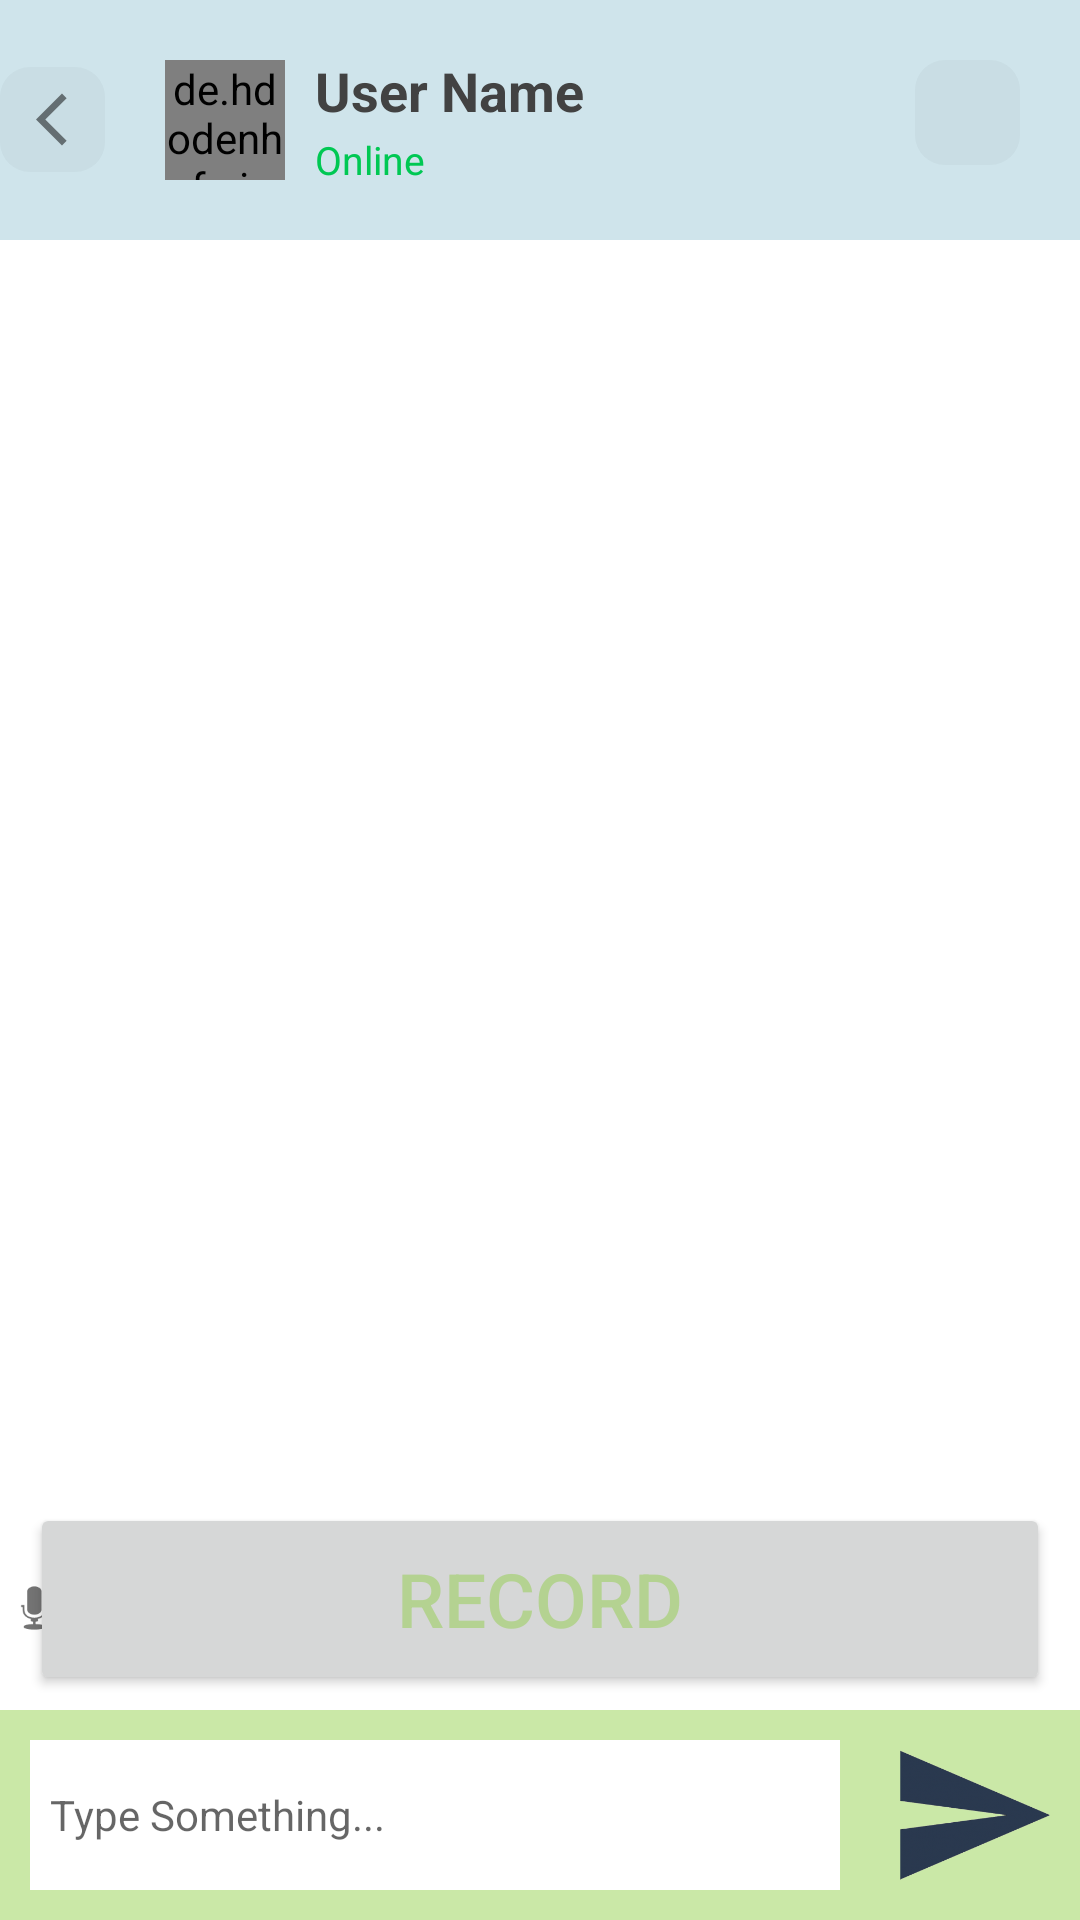

Named icons in this screenshot (1080*1920) and their bounding boxes, (x1, y1, x2, y2):
back: (36, 94, 67, 145)
send: (900, 1751, 1050, 1880)
